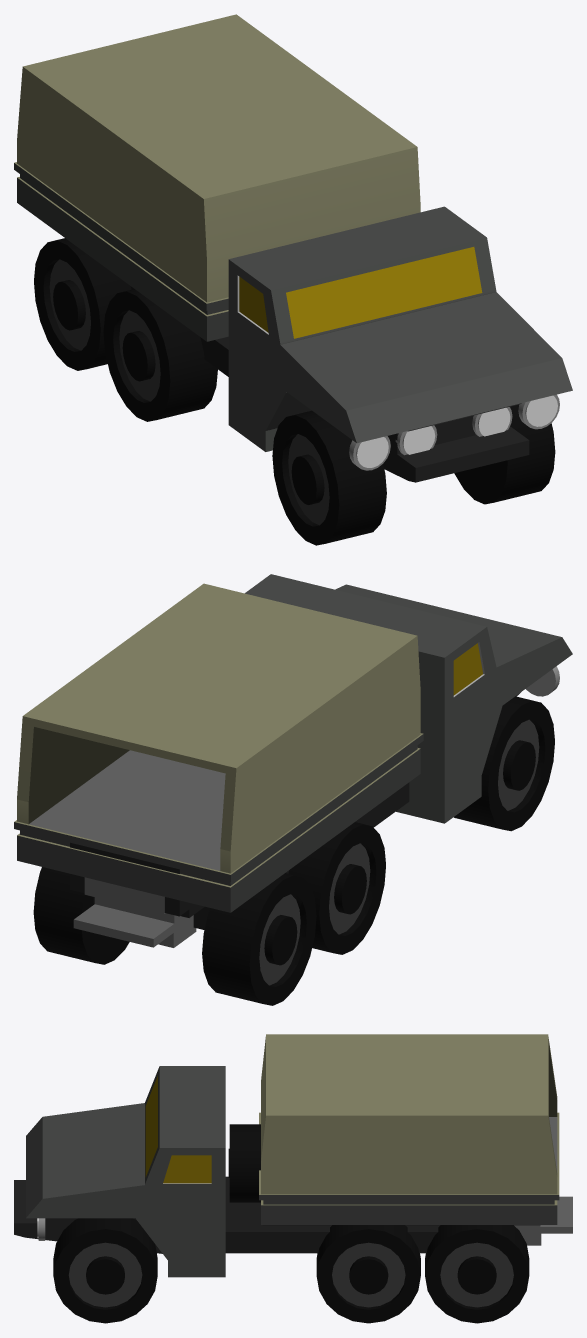
The model's file is armyTruck.fbx.
The picture shows the model from 3 angles, top to bottom: view 1: azimuth 30°, elevation 25°; view 2: azimuth 150°, elevation 25°; view 3: azimuth 270°, elevation 25°; orthographic projection. The views are drawn at different scales.
Parts seen in each view (by area): view 1: pCylinder21; view 2: pCylinder21; view 3: pCylinder21.
Boxes of the visible parts, bbox=[...] form: pCylinder21: bbox=[14, 14, 572, 545]; pCylinder21: bbox=[14, 574, 572, 1005]; pCylinder21: bbox=[14, 1034, 572, 1323].
Bounding box in the file's own units: 8.43 × 9.77 × 23.89.
